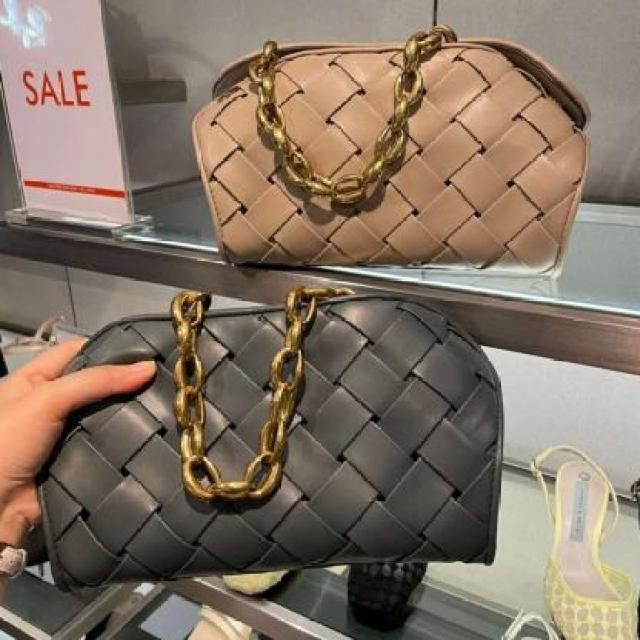Bag: (0, 287, 566, 598), (163, 11, 640, 304)
